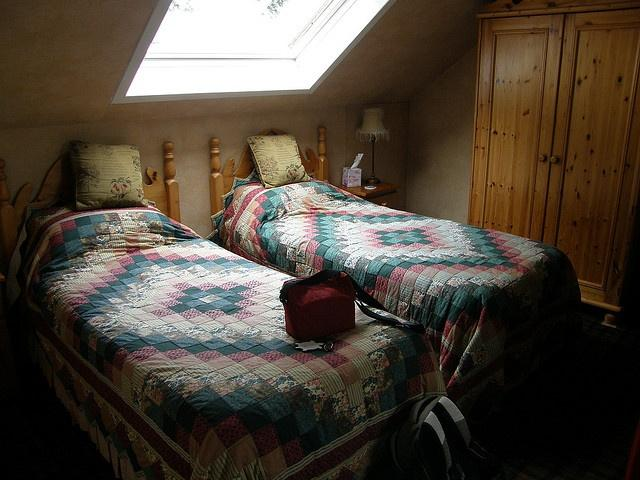Lemari: (466, 2, 639, 329)
